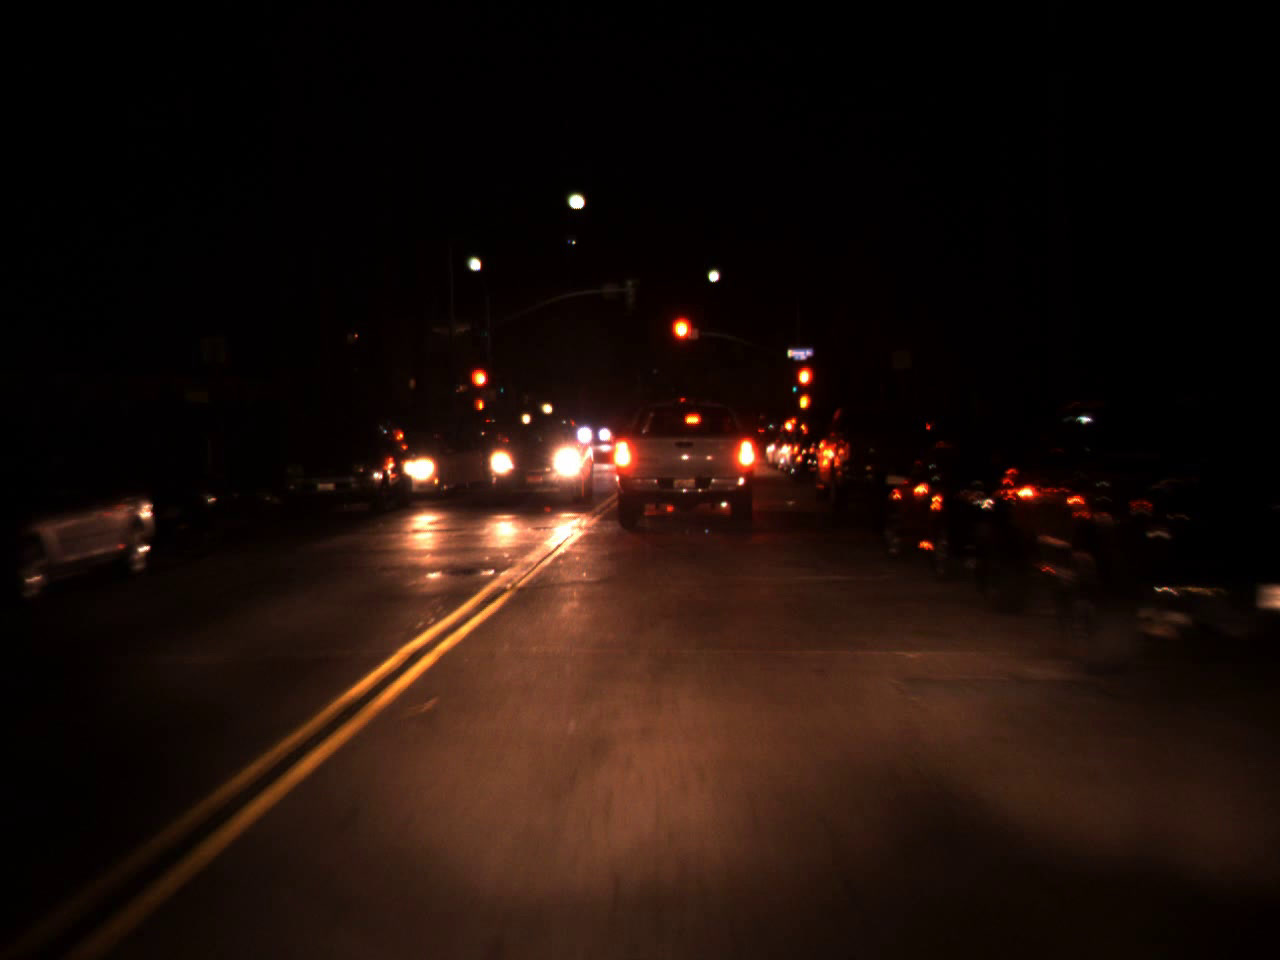stop: (668, 314, 695, 365), (794, 363, 815, 408), (468, 366, 489, 409)
